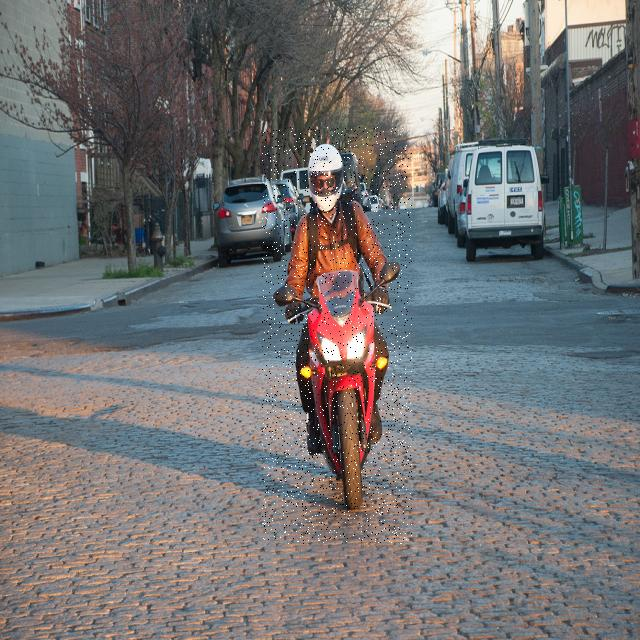With Helmet: (262, 127, 412, 544)
